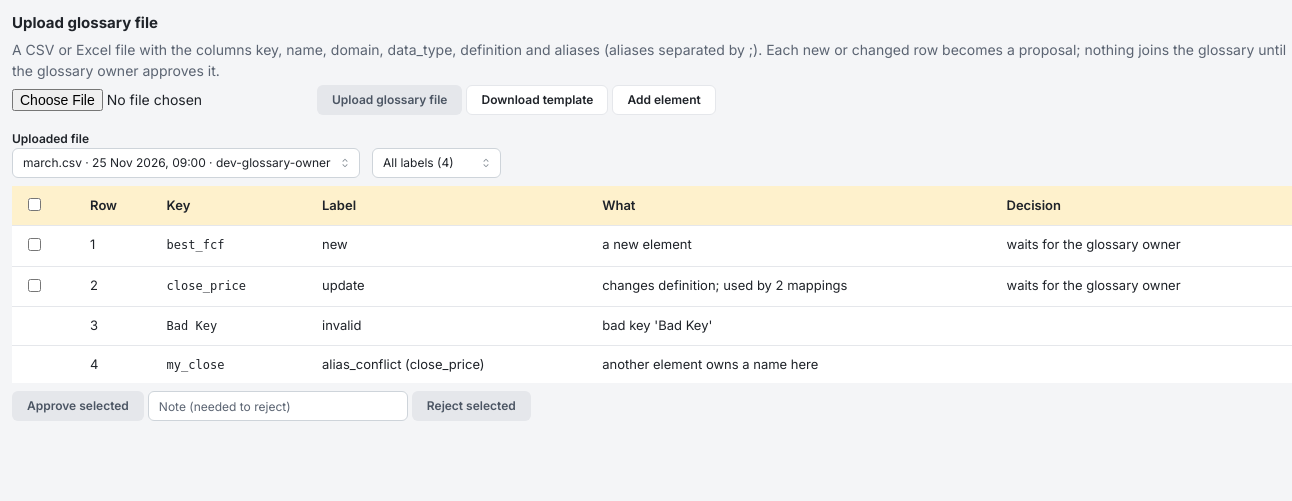
Reject selected needs a note
Select "march.csv · 25 Nov 2026, 09:00 · dev-glossary-owner" in the dropdown labelled "Uploaded file": (186, 162) [12, 148, 360, 178]
Click the checkbox named "Select row 1": (34, 244) [28, 238, 41, 251]
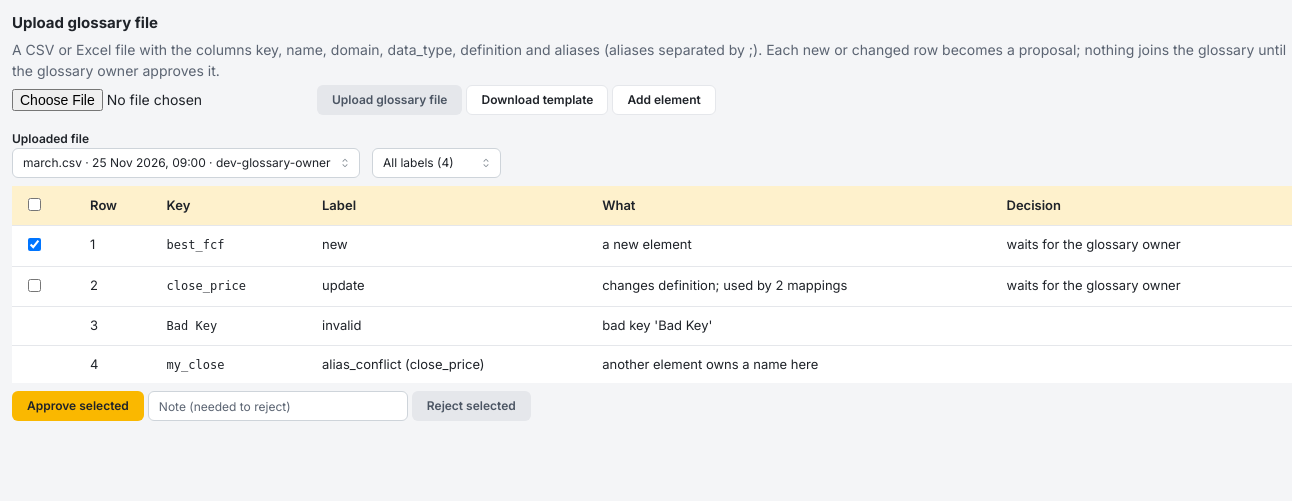
Expected: the button with test id "reject-selected" is disabled, [412, 391, 531, 421]
In the field named "Note for the selected rows": (278, 406) [148, 391, 408, 421], type "Not now."
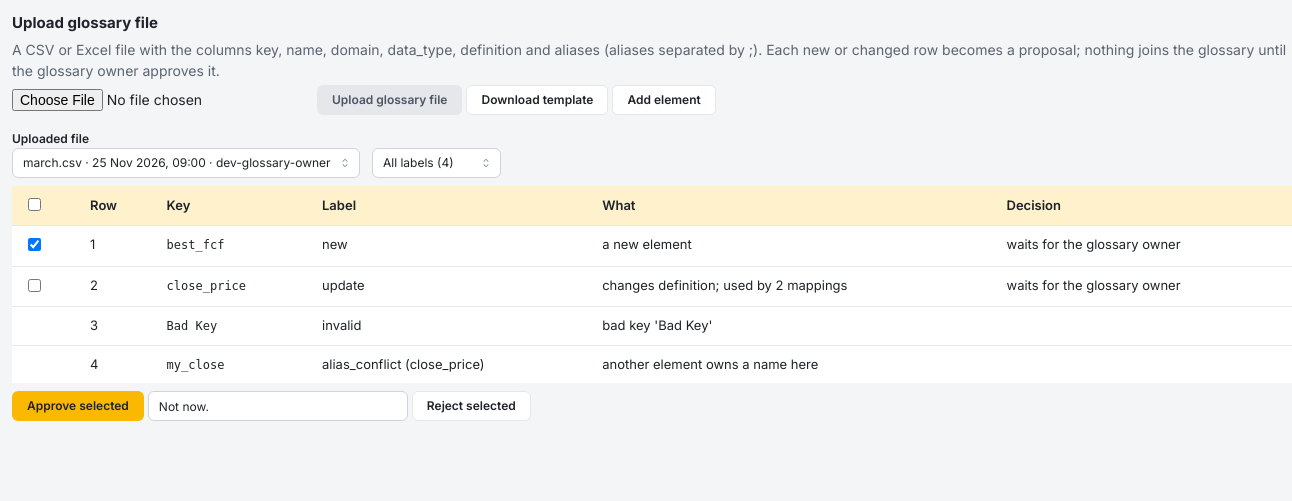
Expected: the button with test id "reject-selected" is enabled
Click the button with test id "reject-selected": (471, 406) [412, 391, 531, 421]
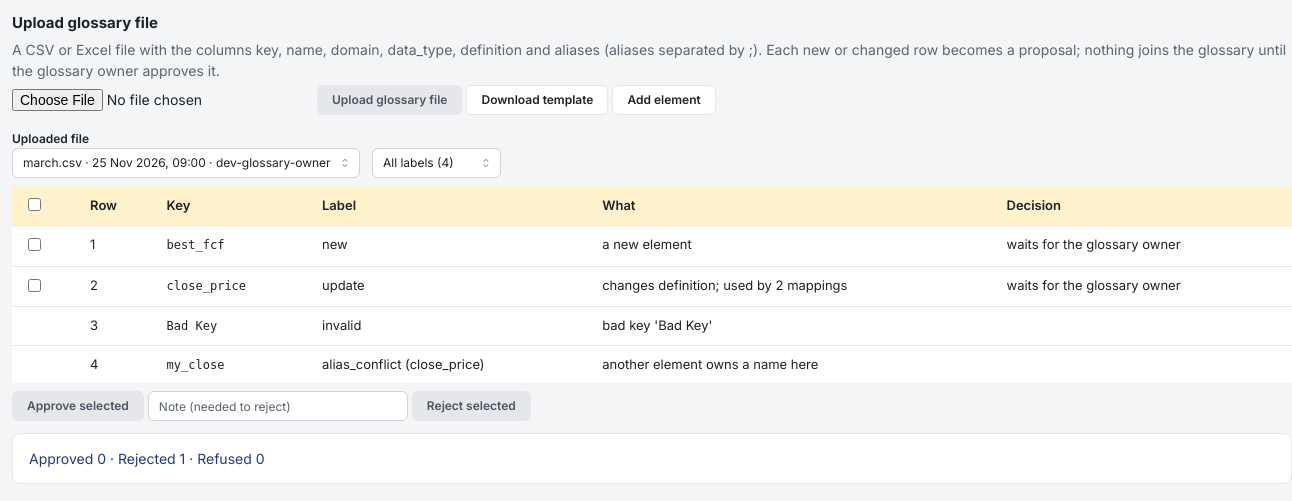
Expected: the message "Approved 0 · Rejected 1 · Refused 0" is shown, [12, 433, 1291, 484]
